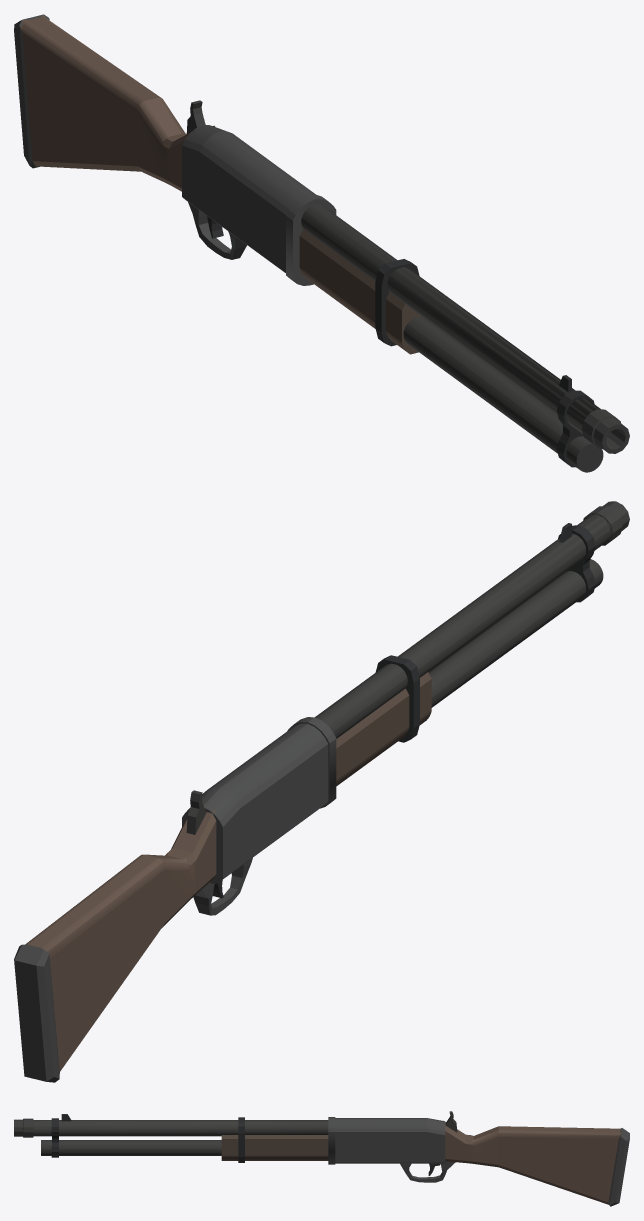
The model's file is Shotgun.fbx.
3 views of the same model, one above another, from view 1: azimuth 30°, elevation 25°; view 2: azimuth 150°, elevation 25°; view 3: azimuth 270°, elevation 25° (orthographic). The views are drawn at different scales.
Parts seen in each view (by area): view 1: Shotgun; view 2: Shotgun; view 3: Shotgun.
Part boxes in pixels (x1,y1,x2,y2): Shotgun: (14,14,629,472); Shotgun: (14,501,629,1082); Shotgun: (14,1111,629,1206).
Bounding box in the file's own units: 4.93 × 18.99 × 116.
